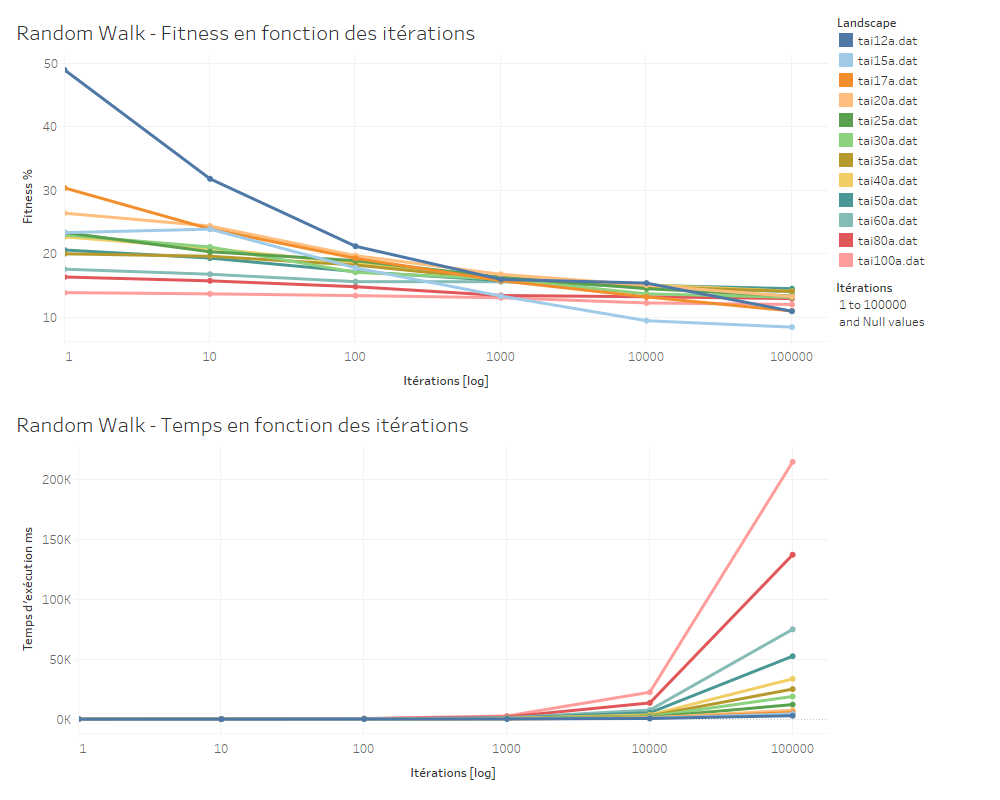

Layout of this report page (visuals, bound fields, positions):
{"tool":"tableau","page":{"name":"Random Walk","canvas":[1000,800],"ordinal":1},"visuals":[{"type":"worksheet","title":"Random Walk - Fitness","mark":"Line","rows":["Calculation_1762314897165193217"],"cols":["F5"],"box":[8,8,824,392]},{"type":"legend","title":"Random Walk - Fitness","param":"[federated.1c0j8d01x8bcdy1817doc1lwf2sg].[none:F1:nk]","box":[832,8,160,266]},{"type":"filter","title":"Random Walk - Temps","param":"[federated.1c0j8d01x8bcdy1817doc1lwf2sg].[none:F5:qk]","box":[832,274,160,69]},{"type":"worksheet","title":"Random Walk - Temps","mark":"Line","rows":["Calculation_1762314897165012992"],"cols":["F5"],"box":[8,400,824,392]}]}

Visuals, with their boxes in screenshot pixels (x1, y1, x2, y2), scaled from the page's 1000x800 canvas onto the 1000x800 screenshot:
"Random Walk - Fitness" worksheet (Line marks): (x1=8, y1=8, x2=832, y2=400)
"Random Walk - Fitness" legend: (x1=832, y1=8, x2=992, y2=274)
"Random Walk - Temps" filter: (x1=832, y1=274, x2=992, y2=343)
"Random Walk - Temps" worksheet (Line marks): (x1=8, y1=400, x2=832, y2=792)
